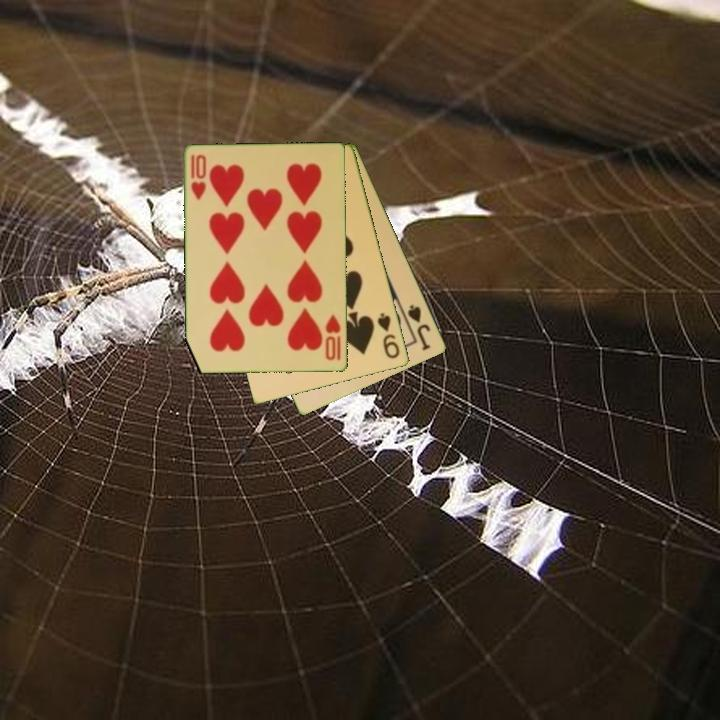10h: (322, 311, 344, 364), (187, 151, 209, 204)
9s: (374, 309, 403, 362)
Js: (404, 301, 434, 353)
